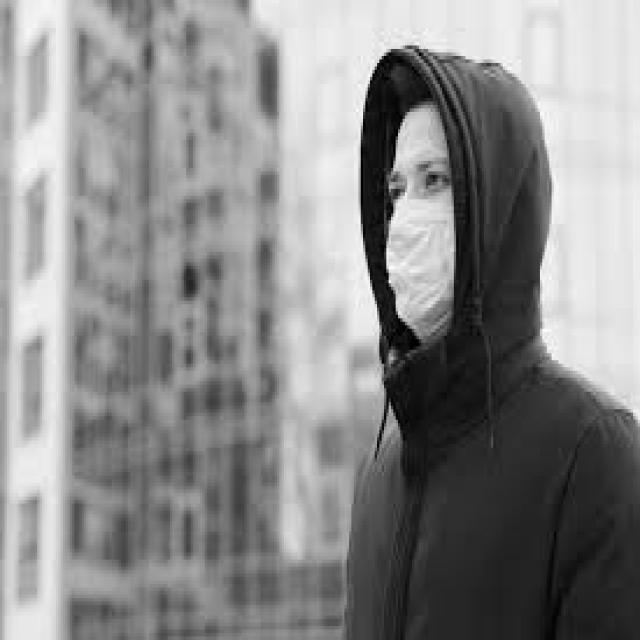with_mask: (384, 189, 456, 343)
